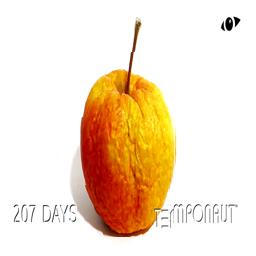Apple Semirotten: (77, 15, 177, 237)
